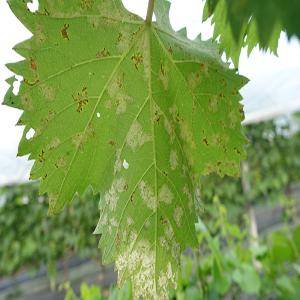Folha: (1, 0, 250, 298)
Fungo: (113, 177, 184, 299), (45, 0, 139, 29), (99, 70, 136, 117), (168, 103, 196, 149), (124, 113, 155, 151), (134, 27, 153, 88), (32, 66, 60, 106), (178, 145, 201, 184), (32, 109, 57, 139), (112, 19, 134, 51), (73, 119, 95, 151), (44, 186, 66, 216), (208, 127, 230, 151), (19, 91, 40, 115), (185, 68, 205, 92), (206, 90, 222, 120), (71, 86, 89, 112), (182, 180, 195, 216), (104, 187, 123, 211), (102, 211, 120, 236), (111, 146, 125, 176), (164, 112, 176, 143), (157, 62, 169, 91), (34, 21, 47, 47), (11, 39, 33, 52), (202, 163, 224, 176), (228, 103, 238, 131), (168, 147, 179, 170), (131, 51, 143, 70), (128, 25, 140, 42), (60, 21, 70, 40), (201, 58, 211, 77), (95, 46, 110, 58), (78, 0, 94, 11), (54, 154, 66, 168), (153, 108, 161, 124), (167, 40, 174, 57), (115, 31, 123, 45), (117, 72, 124, 88), (38, 149, 45, 163), (30, 58, 36, 70), (202, 136, 208, 146), (82, 86, 88, 96), (175, 110, 180, 122), (108, 139, 115, 147), (160, 62, 164, 75), (156, 114, 160, 124)
